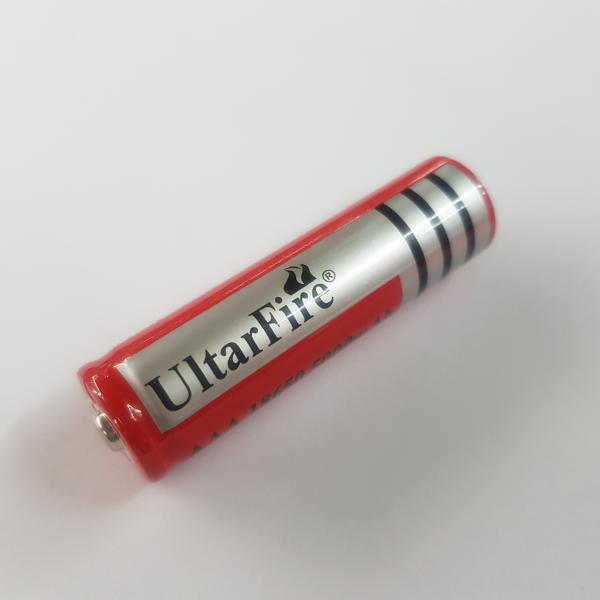Battery: (74, 151, 501, 486)
